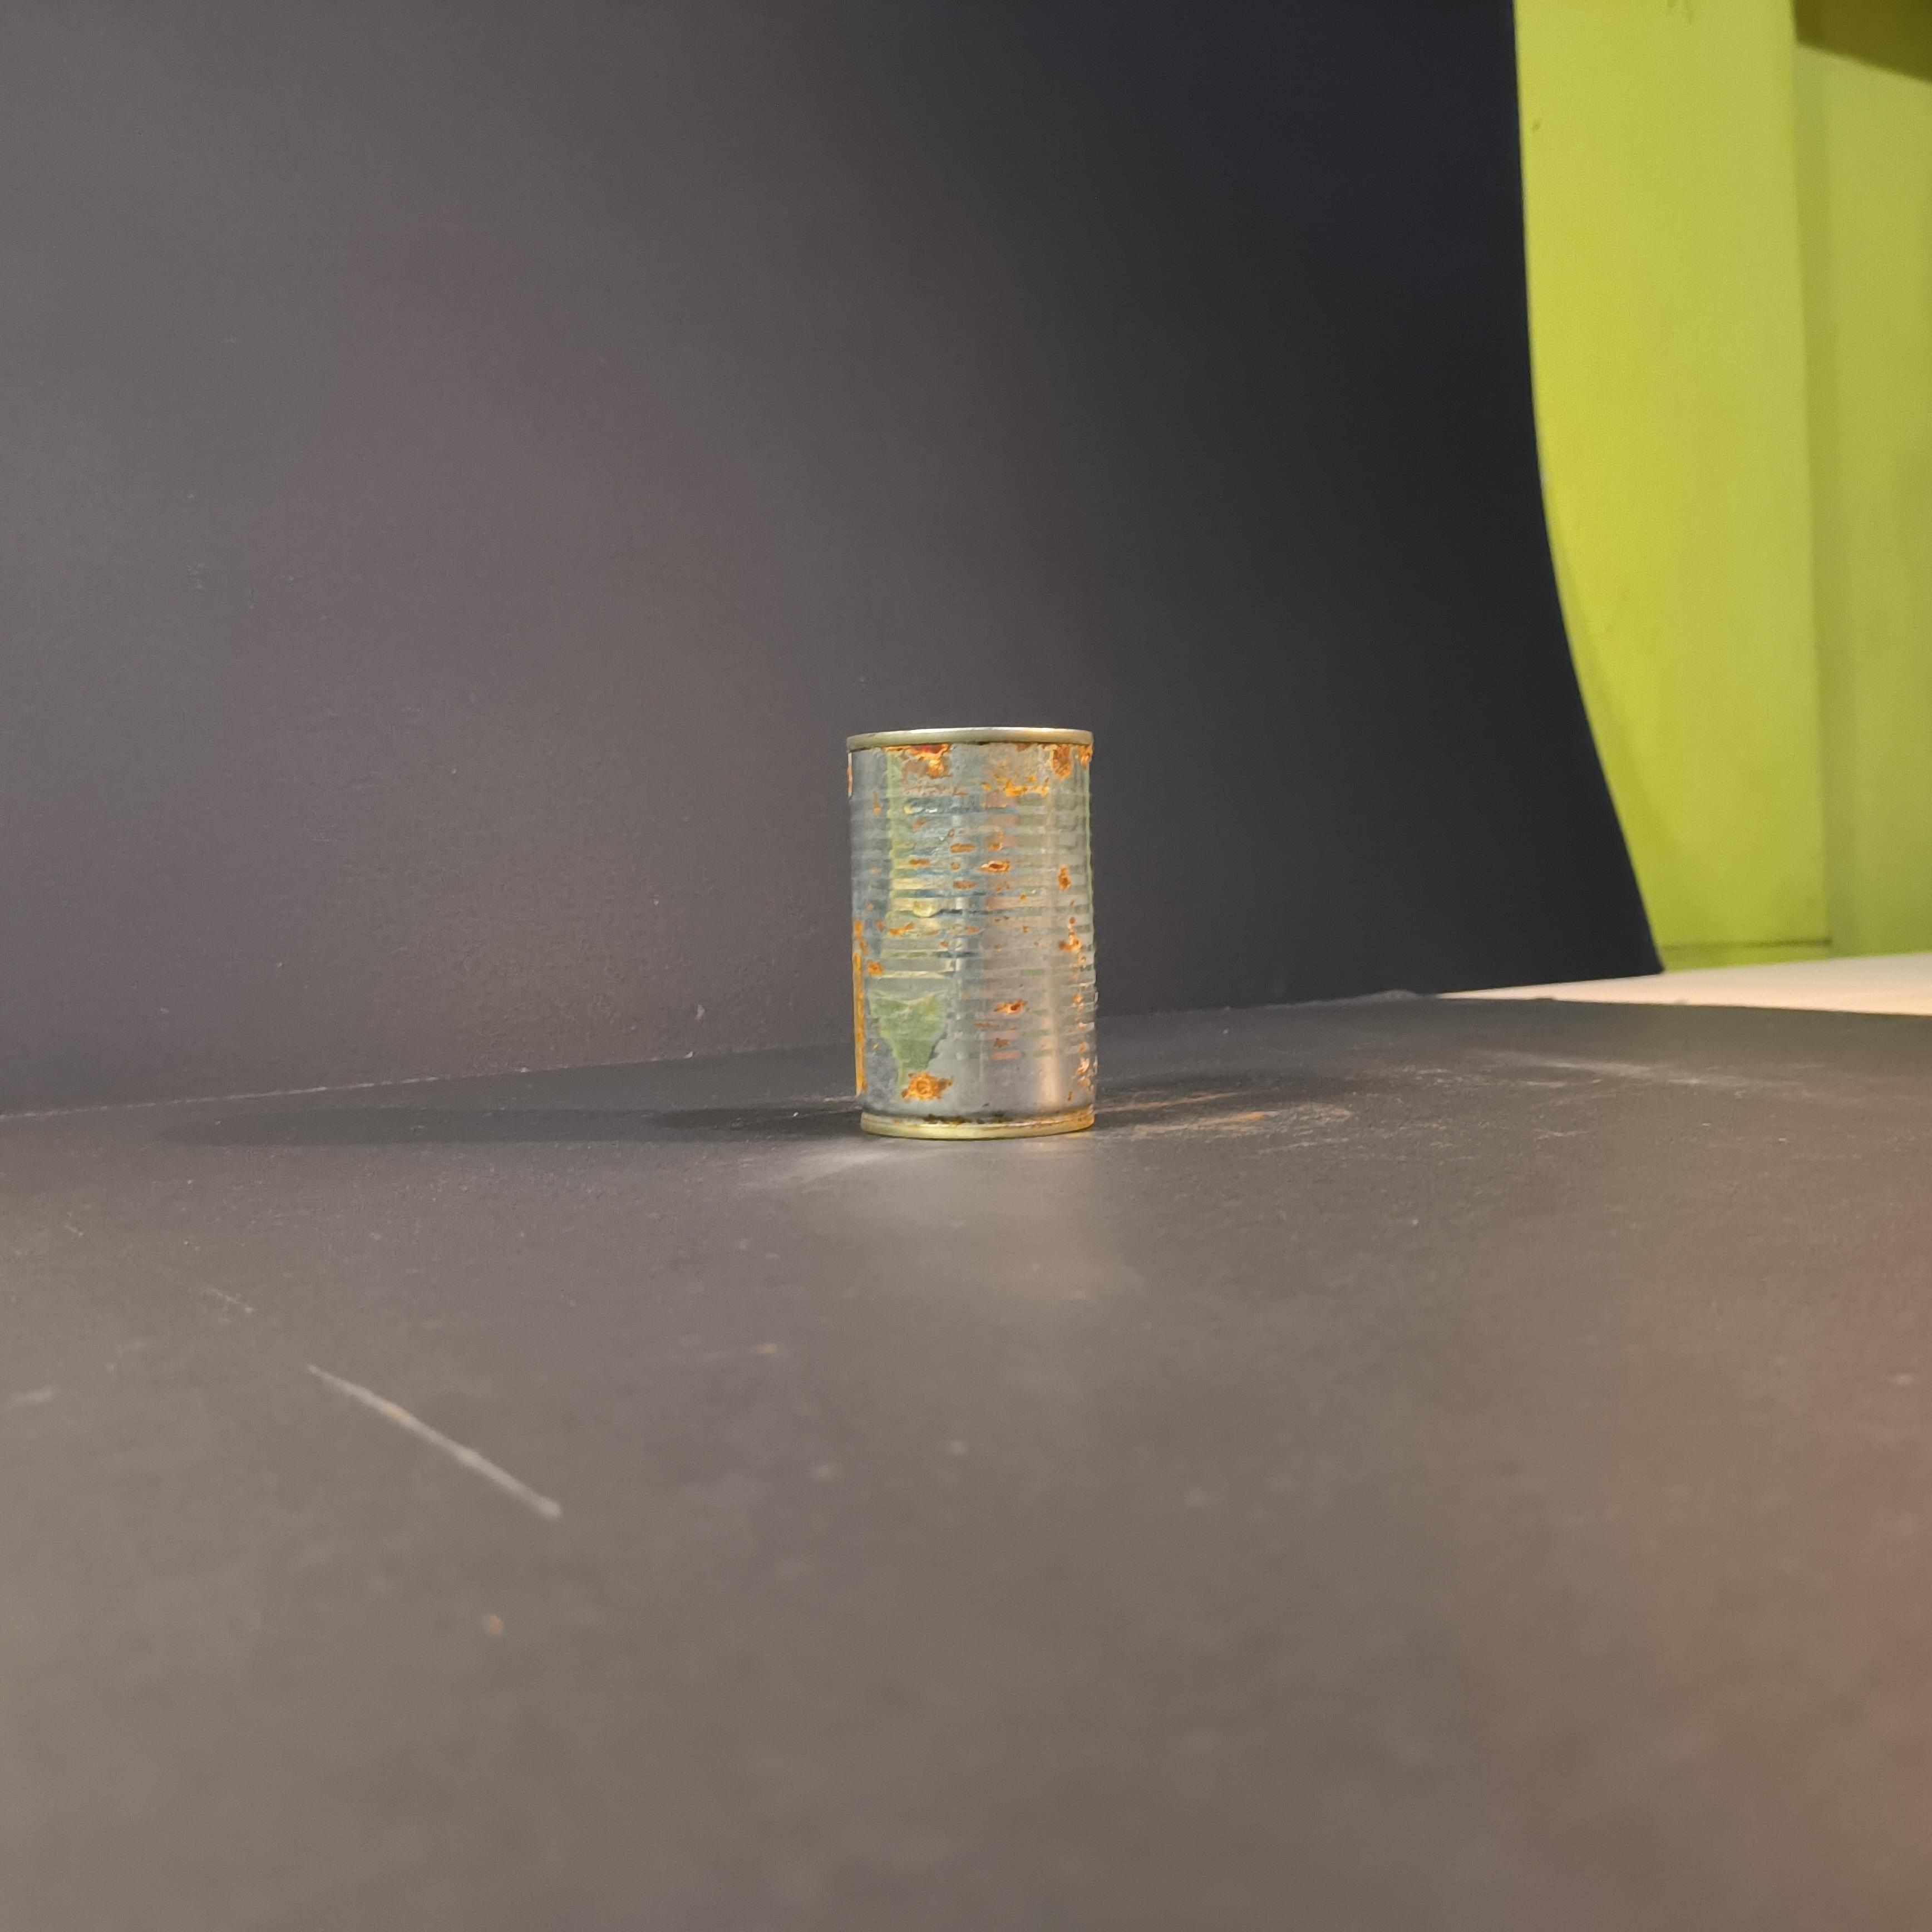Rusted: (823, 715, 1122, 1168)
